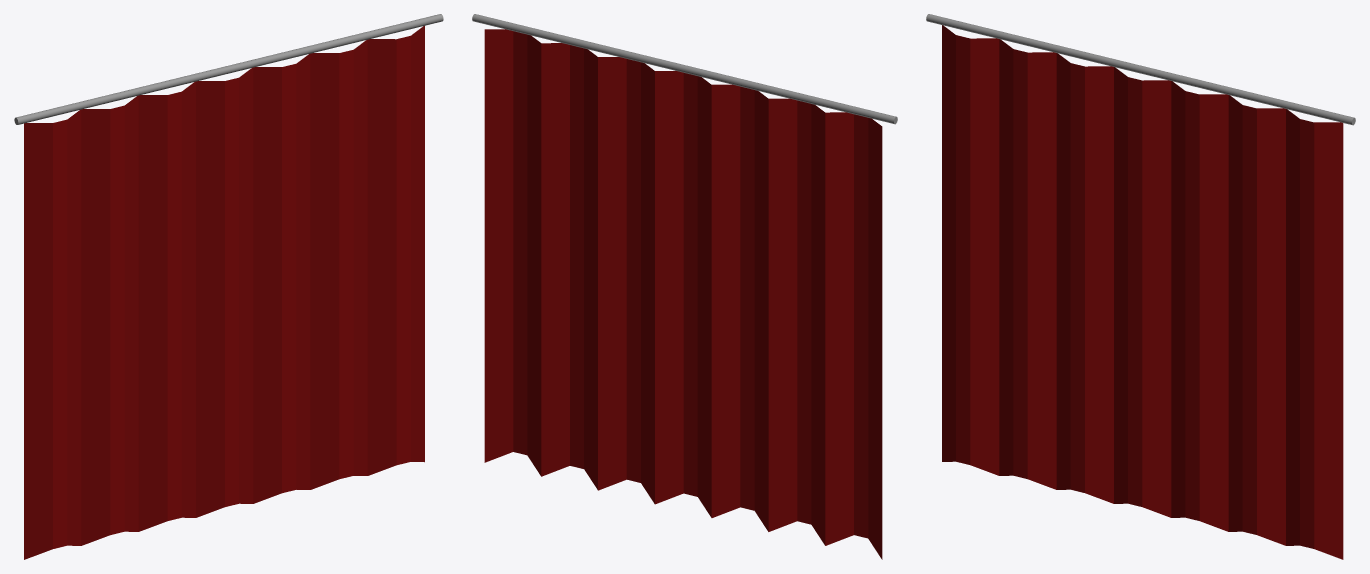
The model's file is Cortina.FBX.
3 renders of one model, left to right at view 1: azimuth 30°, elevation 25°; view 2: azimuth 150°, elevation 25°; view 3: azimuth 330°, elevation 25°, orthographic.
Parts seen in each view (by area): view 1: Cortina; view 2: Cortina; view 3: Cortina.
Part boxes in pixels (box(x1,y1,x2,y2)): Cortina: box(14, 14, 443, 559); Cortina: box(472, 14, 897, 559); Cortina: box(926, 14, 1355, 559).
Size of the model in its own units: 3.91 by 3.93 by 0.1176.
